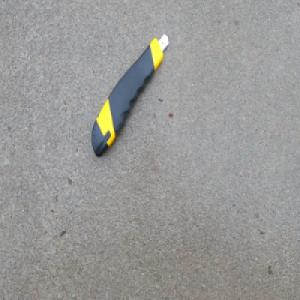Cutter: (91, 31, 169, 159)
